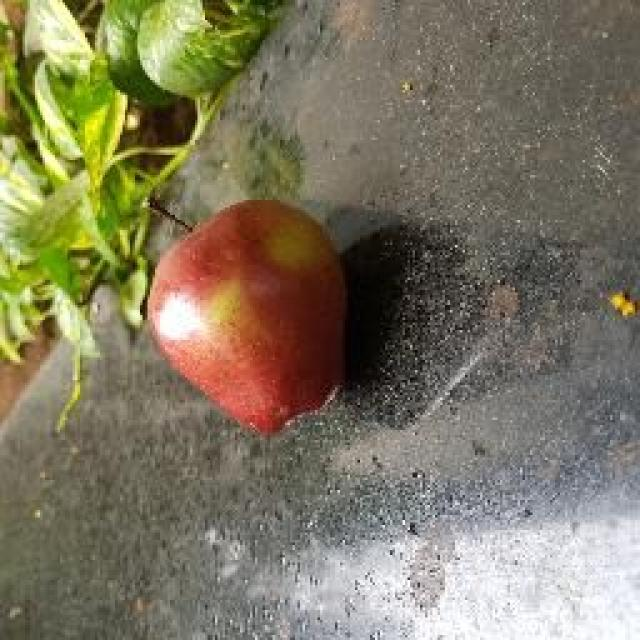Good_Apple: (148, 200, 350, 438)
